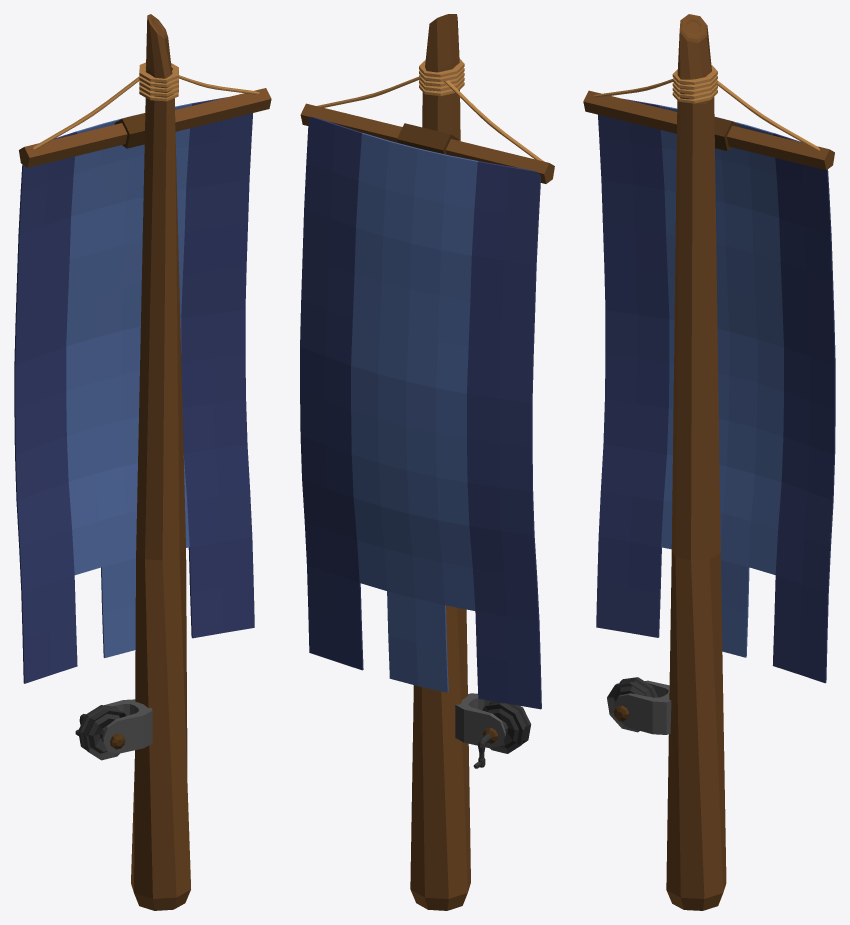
The model's file is G_Flag_Blue.fbx.
The picture shows the model from 3 angles, left to right: view 1: azimuth 30°, elevation 25°; view 2: azimuth 150°, elevation 25°; view 3: azimuth 330°, elevation 25°; orthographic projection.
Visible parts, largest first — view 1: G_Flag_Blue, G_Flag_Roll.003; view 2: G_Flag_Blue, G_Flag_Roll.003; view 3: G_Flag_Blue, G_Flag_Roll.003.
Part boxes in pixels (x1,y1,x2,y2): G_Flag_Blue: (14, 14, 271, 910); G_Flag_Roll.003: (75, 705, 125, 760); G_Flag_Blue: (300, 14, 554, 910); G_Flag_Roll.003: (473, 701, 531, 768); G_Flag_Blue: (583, 14, 835, 910); G_Flag_Roll.003: (607, 677, 658, 732).
Size of the model in its own units: 147 by 514 by 58.31.
